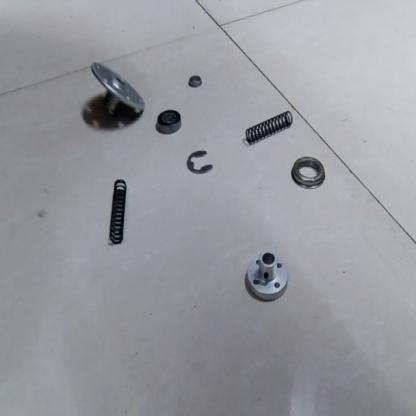FOD: (84, 58, 147, 118), (242, 249, 289, 304), (243, 110, 294, 147), (287, 154, 329, 190), (109, 180, 131, 245), (185, 145, 215, 176), (154, 108, 182, 135), (188, 73, 203, 89)
